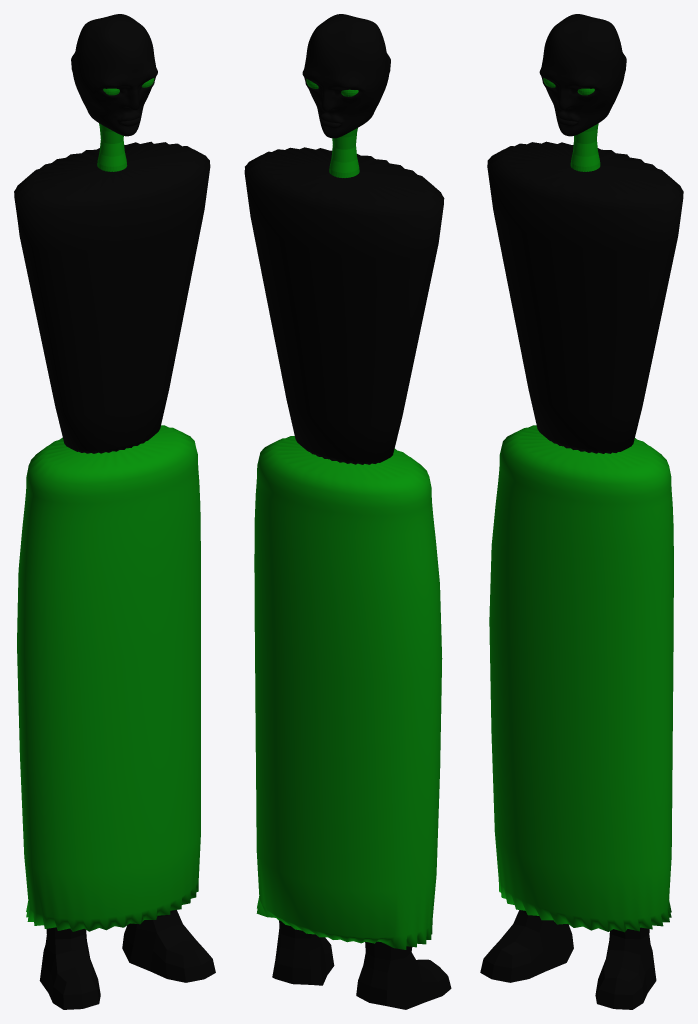
The model's file is gaia.fbx.
3 views of the same model, side by side, from view 1: azimuth 30°, elevation 25°; view 2: azimuth 150°, elevation 25°; view 3: azimuth 330°, elevation 25° (orthographic).
Parts seen in each view (by area): view 1: Cylinder.002, Cylinder.001, PlayerModel.002, Sphere, Cylinder; view 2: Cylinder.002, Cylinder.001, Sphere, PlayerModel.002, Cylinder; view 3: Cylinder.002, Cylinder.001, PlayerModel.002, Sphere, Cylinder.
Boxes of the visible parts, <box> form: Cylinder.002: <box>17,425,200,931</box>; Cylinder.001: <box>14,141,210,453</box>; PlayerModel.002: <box>39,910,215,1009</box>; Sphere: <box>71,14,157,136</box>; Cylinder: <box>97,123,127,171</box>; Cylinder.002: <box>254,436,442,949</box>; Cylinder.001: <box>244,147,444,464</box>; Sphere: <box>302,14,390,138</box>; PlayerModel.002: <box>272,920,451,1009</box>; Cylinder: <box>329,128,359,177</box>; Cylinder.002: <box>489,425,673,932</box>; Cylinder.001: <box>487,141,683,453</box>; PlayerModel.002: <box>480,910,656,1009</box>; Sphere: <box>539,14,626,136</box>; Cylinder: <box>570,123,600,171</box>.
Size of the model in its own units: 747 by 3625 by 441.
